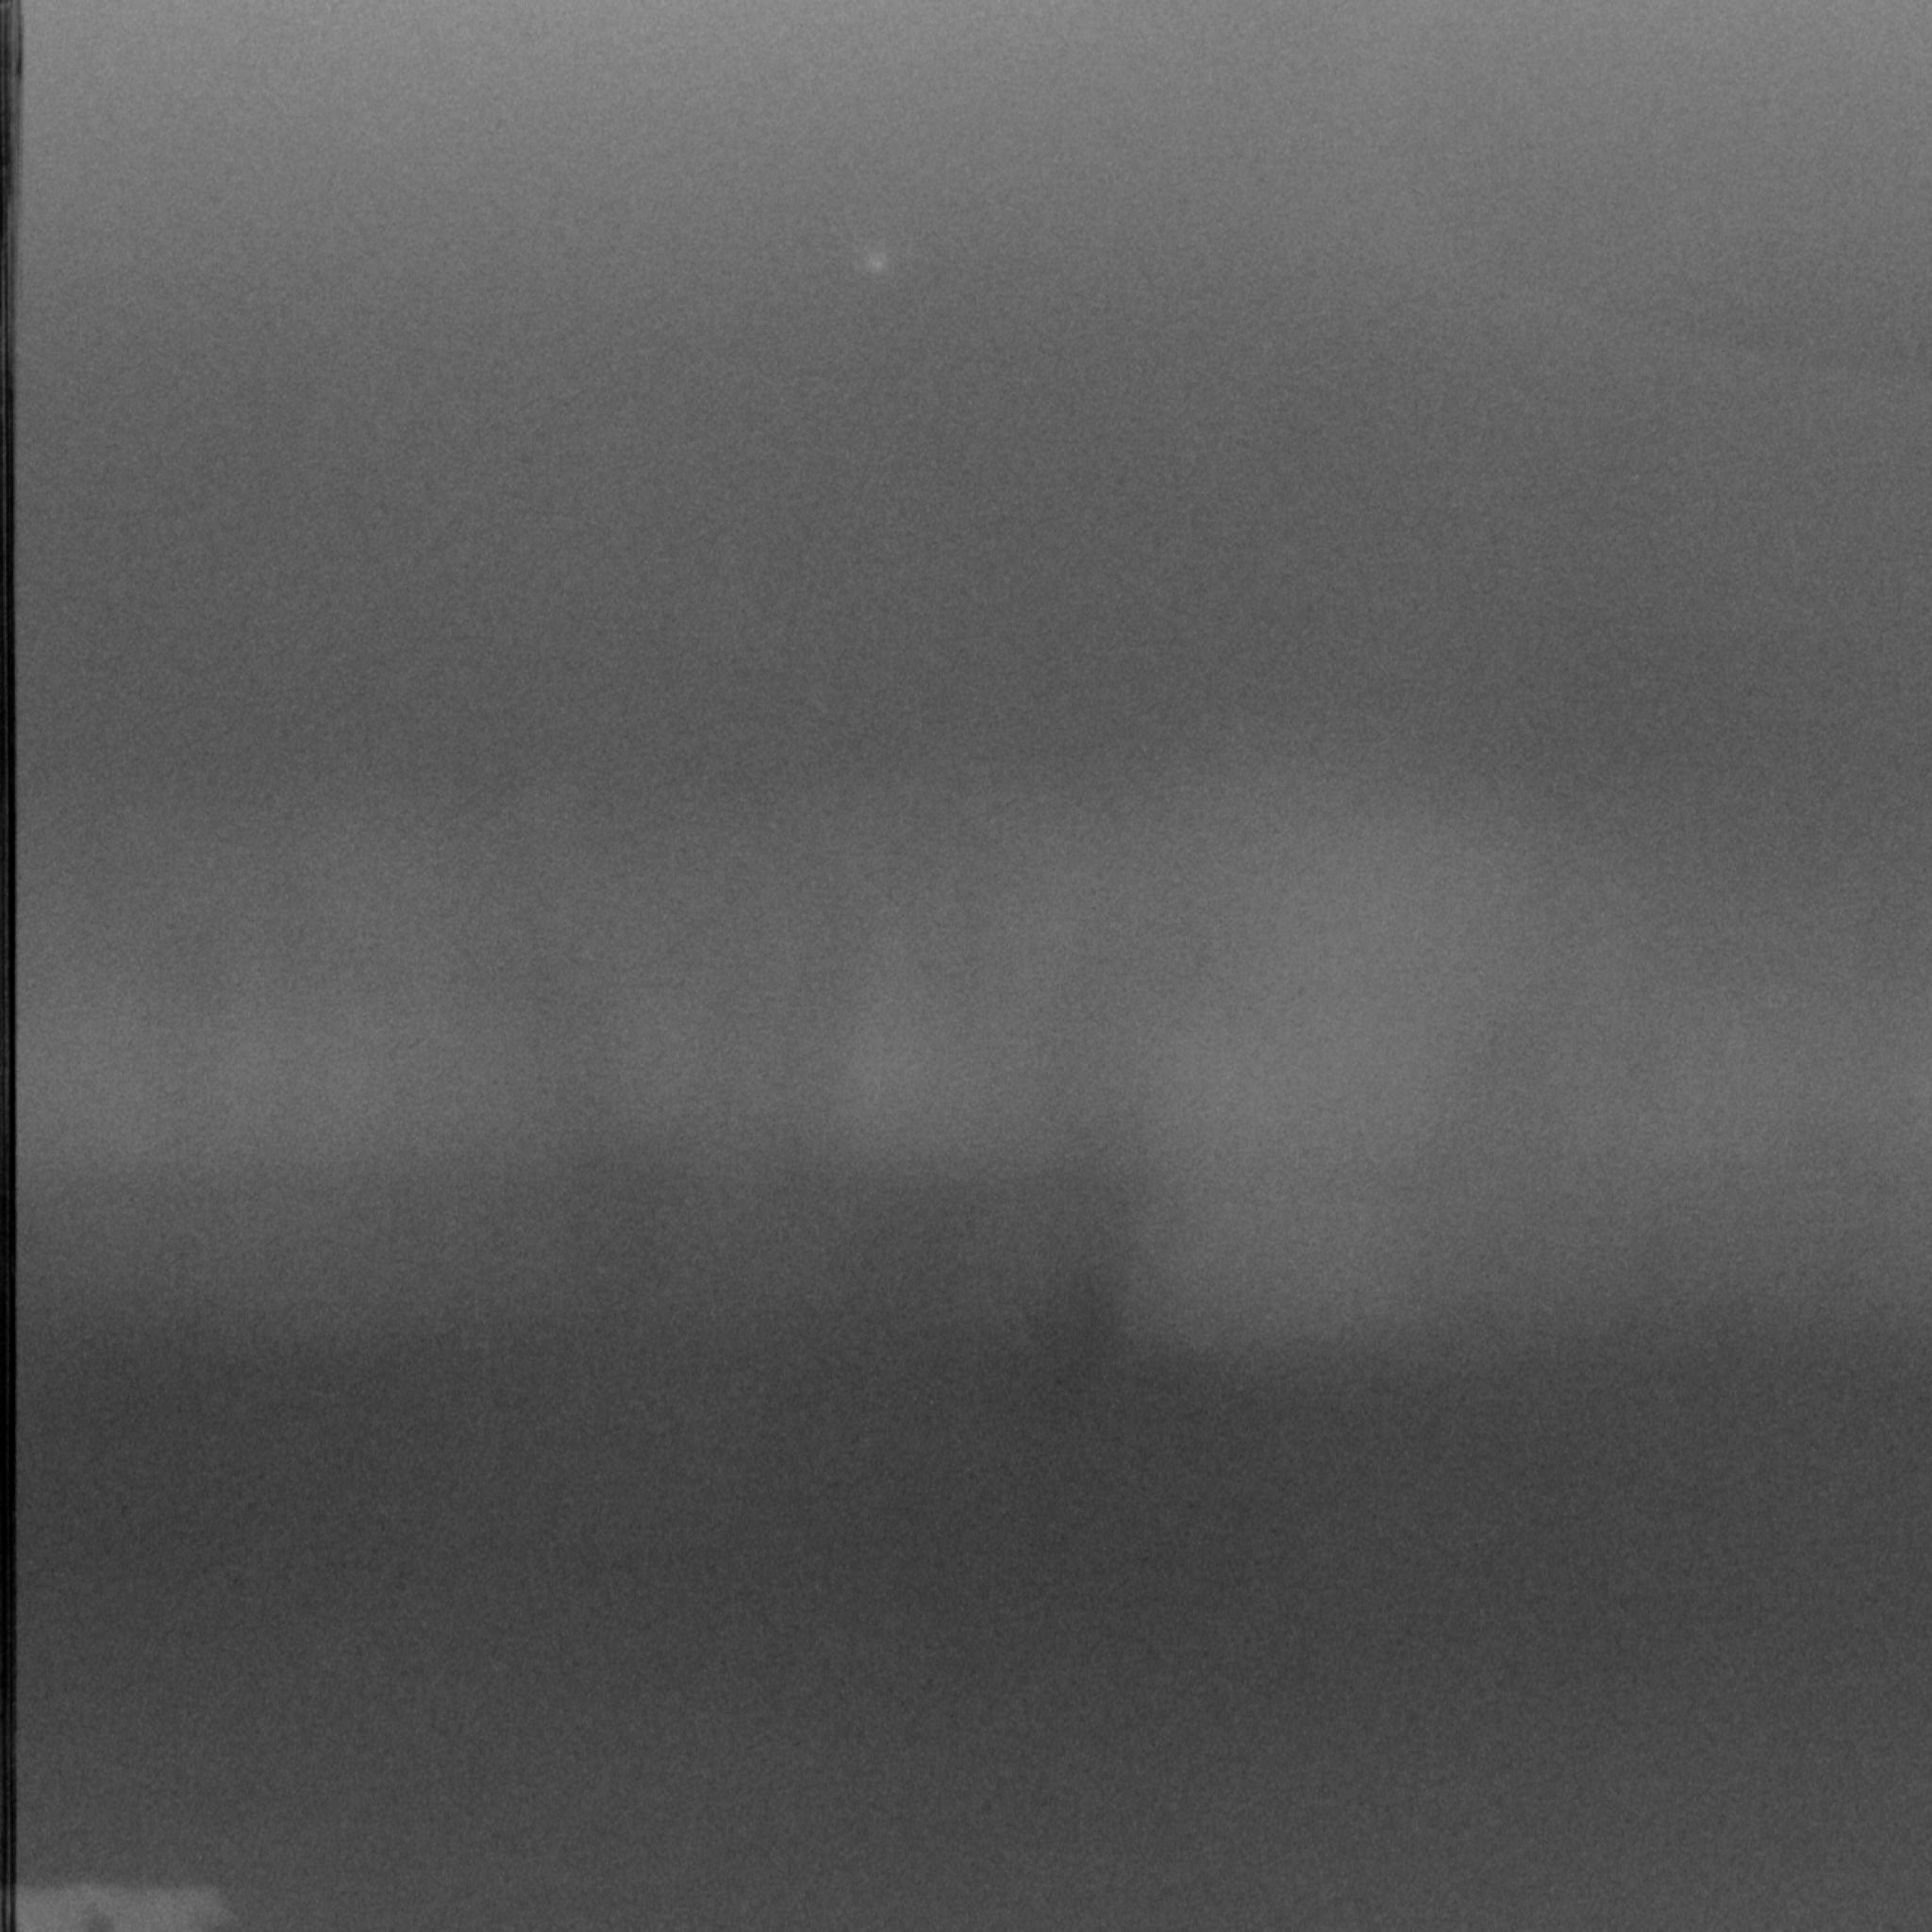FF: (783, 1135, 1402, 1545)
Sem defeitos: (0, 698, 1932, 1491)
